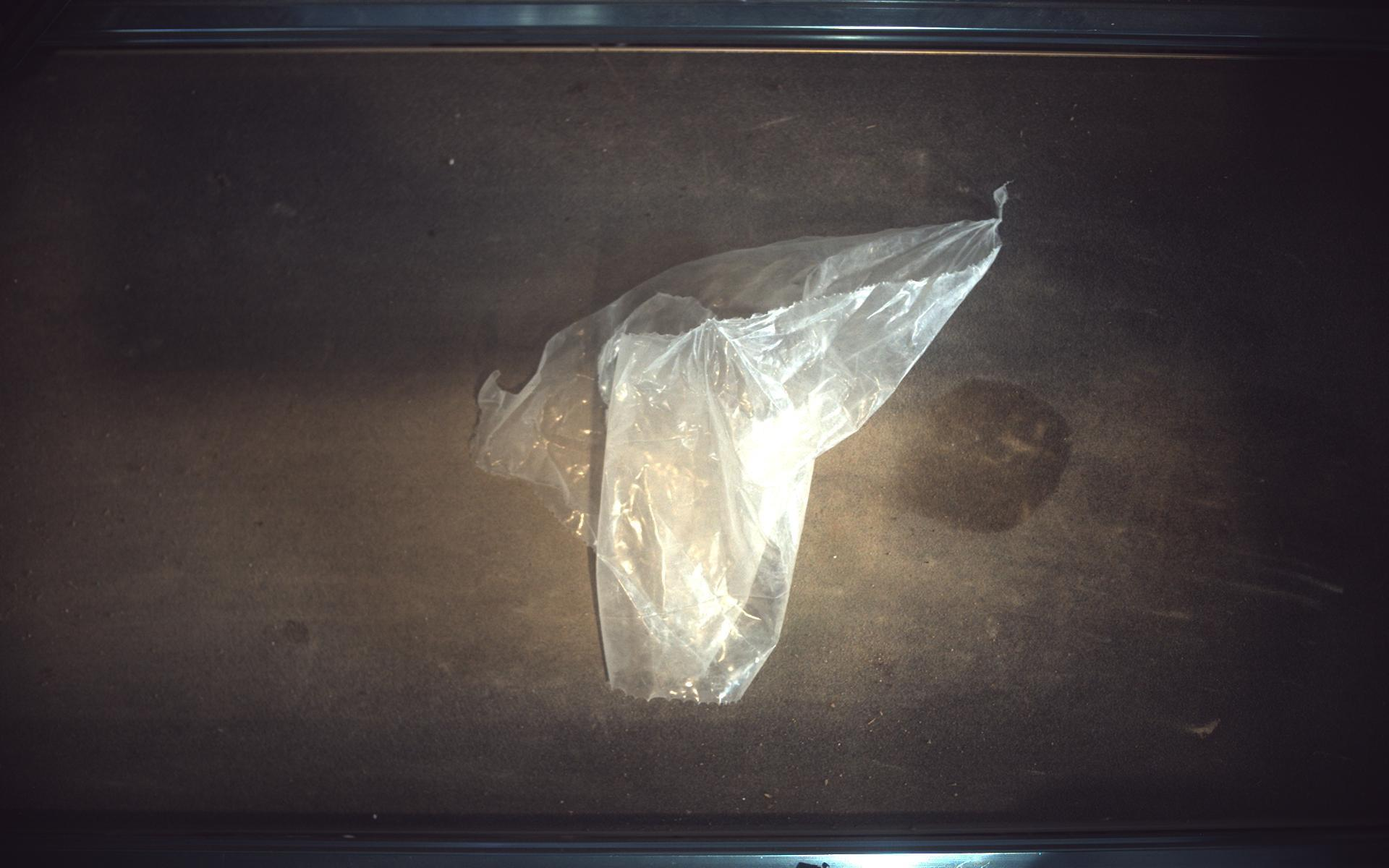general_w: (472, 186, 1009, 704)
